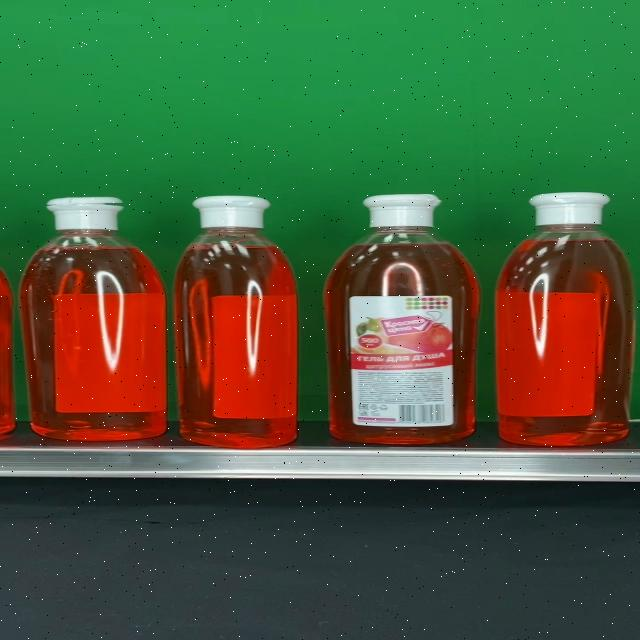Bottle: (324, 194, 479, 445), (19, 196, 166, 441), (496, 192, 633, 446), (175, 196, 296, 448)
Cap: (530, 192, 612, 226), (362, 195, 444, 228), (47, 197, 124, 231), (193, 196, 271, 229)
